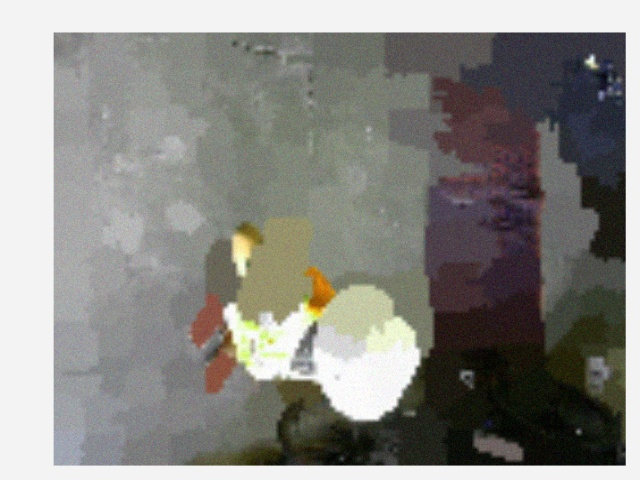eight: (361, 298, 404, 324)
